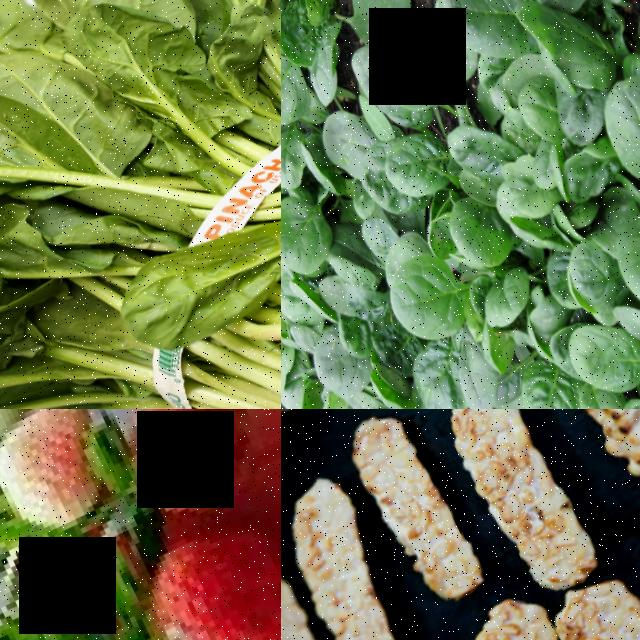spinach: (0, 0, 273, 217), (112, 156, 281, 364), (0, 0, 112, 267), (0, 153, 83, 404), (374, 243, 476, 353), (356, 16, 451, 123), (558, 306, 640, 409), (372, 120, 461, 211), (436, 186, 514, 277), (431, 0, 529, 72), (584, 63, 640, 186), (281, 183, 344, 280), (301, 320, 368, 404), (598, 190, 640, 319), (507, 349, 583, 409), (502, 0, 591, 22)
strawberry: (95, 409, 280, 531), (122, 501, 281, 640)
tempeh: (427, 409, 605, 603), (342, 409, 489, 610), (281, 466, 430, 640), (453, 579, 638, 640), (513, 409, 640, 483), (281, 548, 363, 640)
